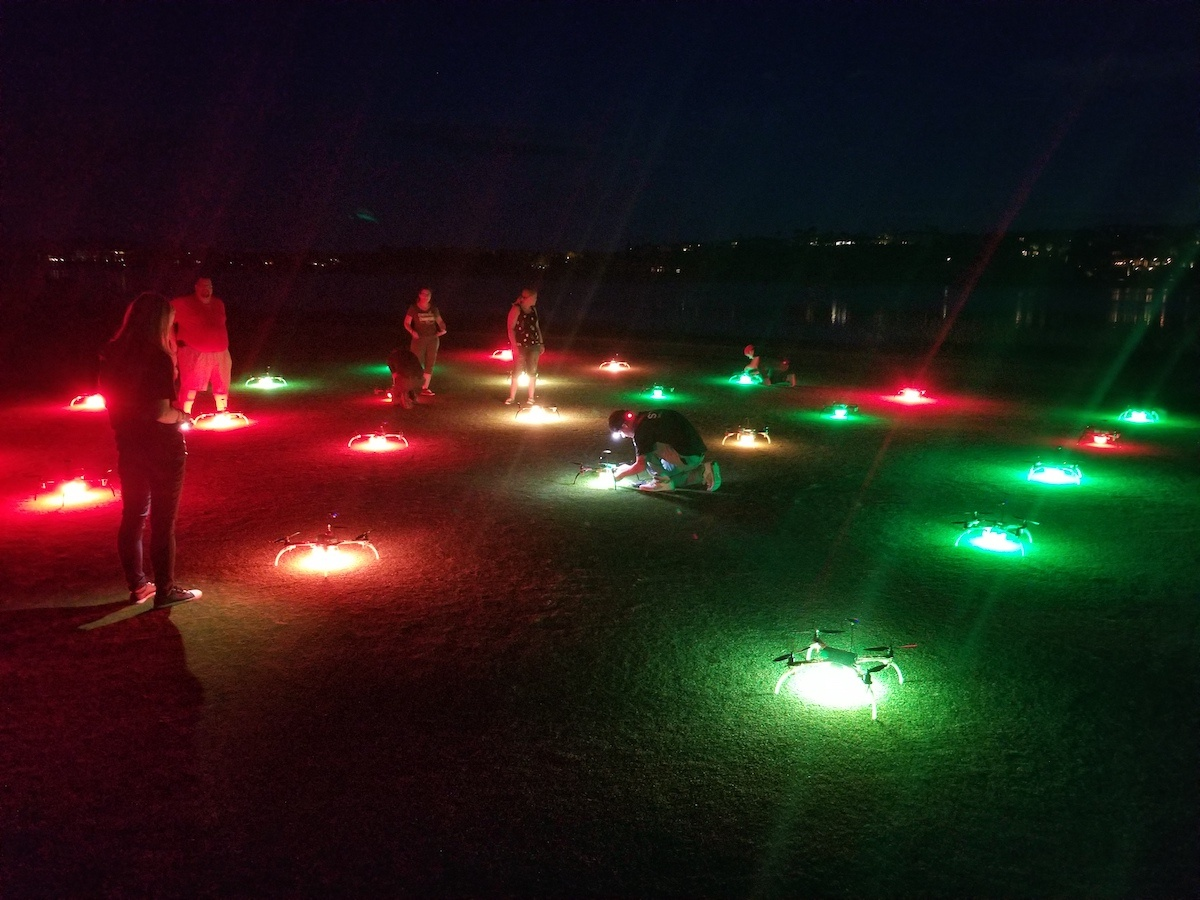none: (120, 290, 174, 345), (606, 405, 636, 439), (190, 271, 214, 301), (519, 286, 539, 308), (417, 286, 433, 304)
red: (743, 343, 756, 360)
